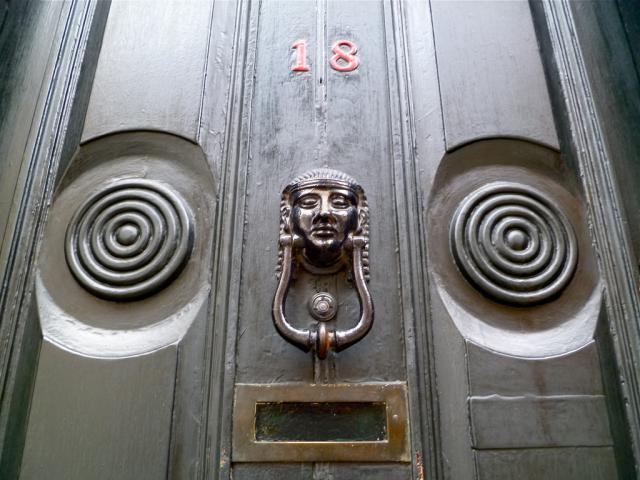Door-handle: (269, 165, 380, 362)
